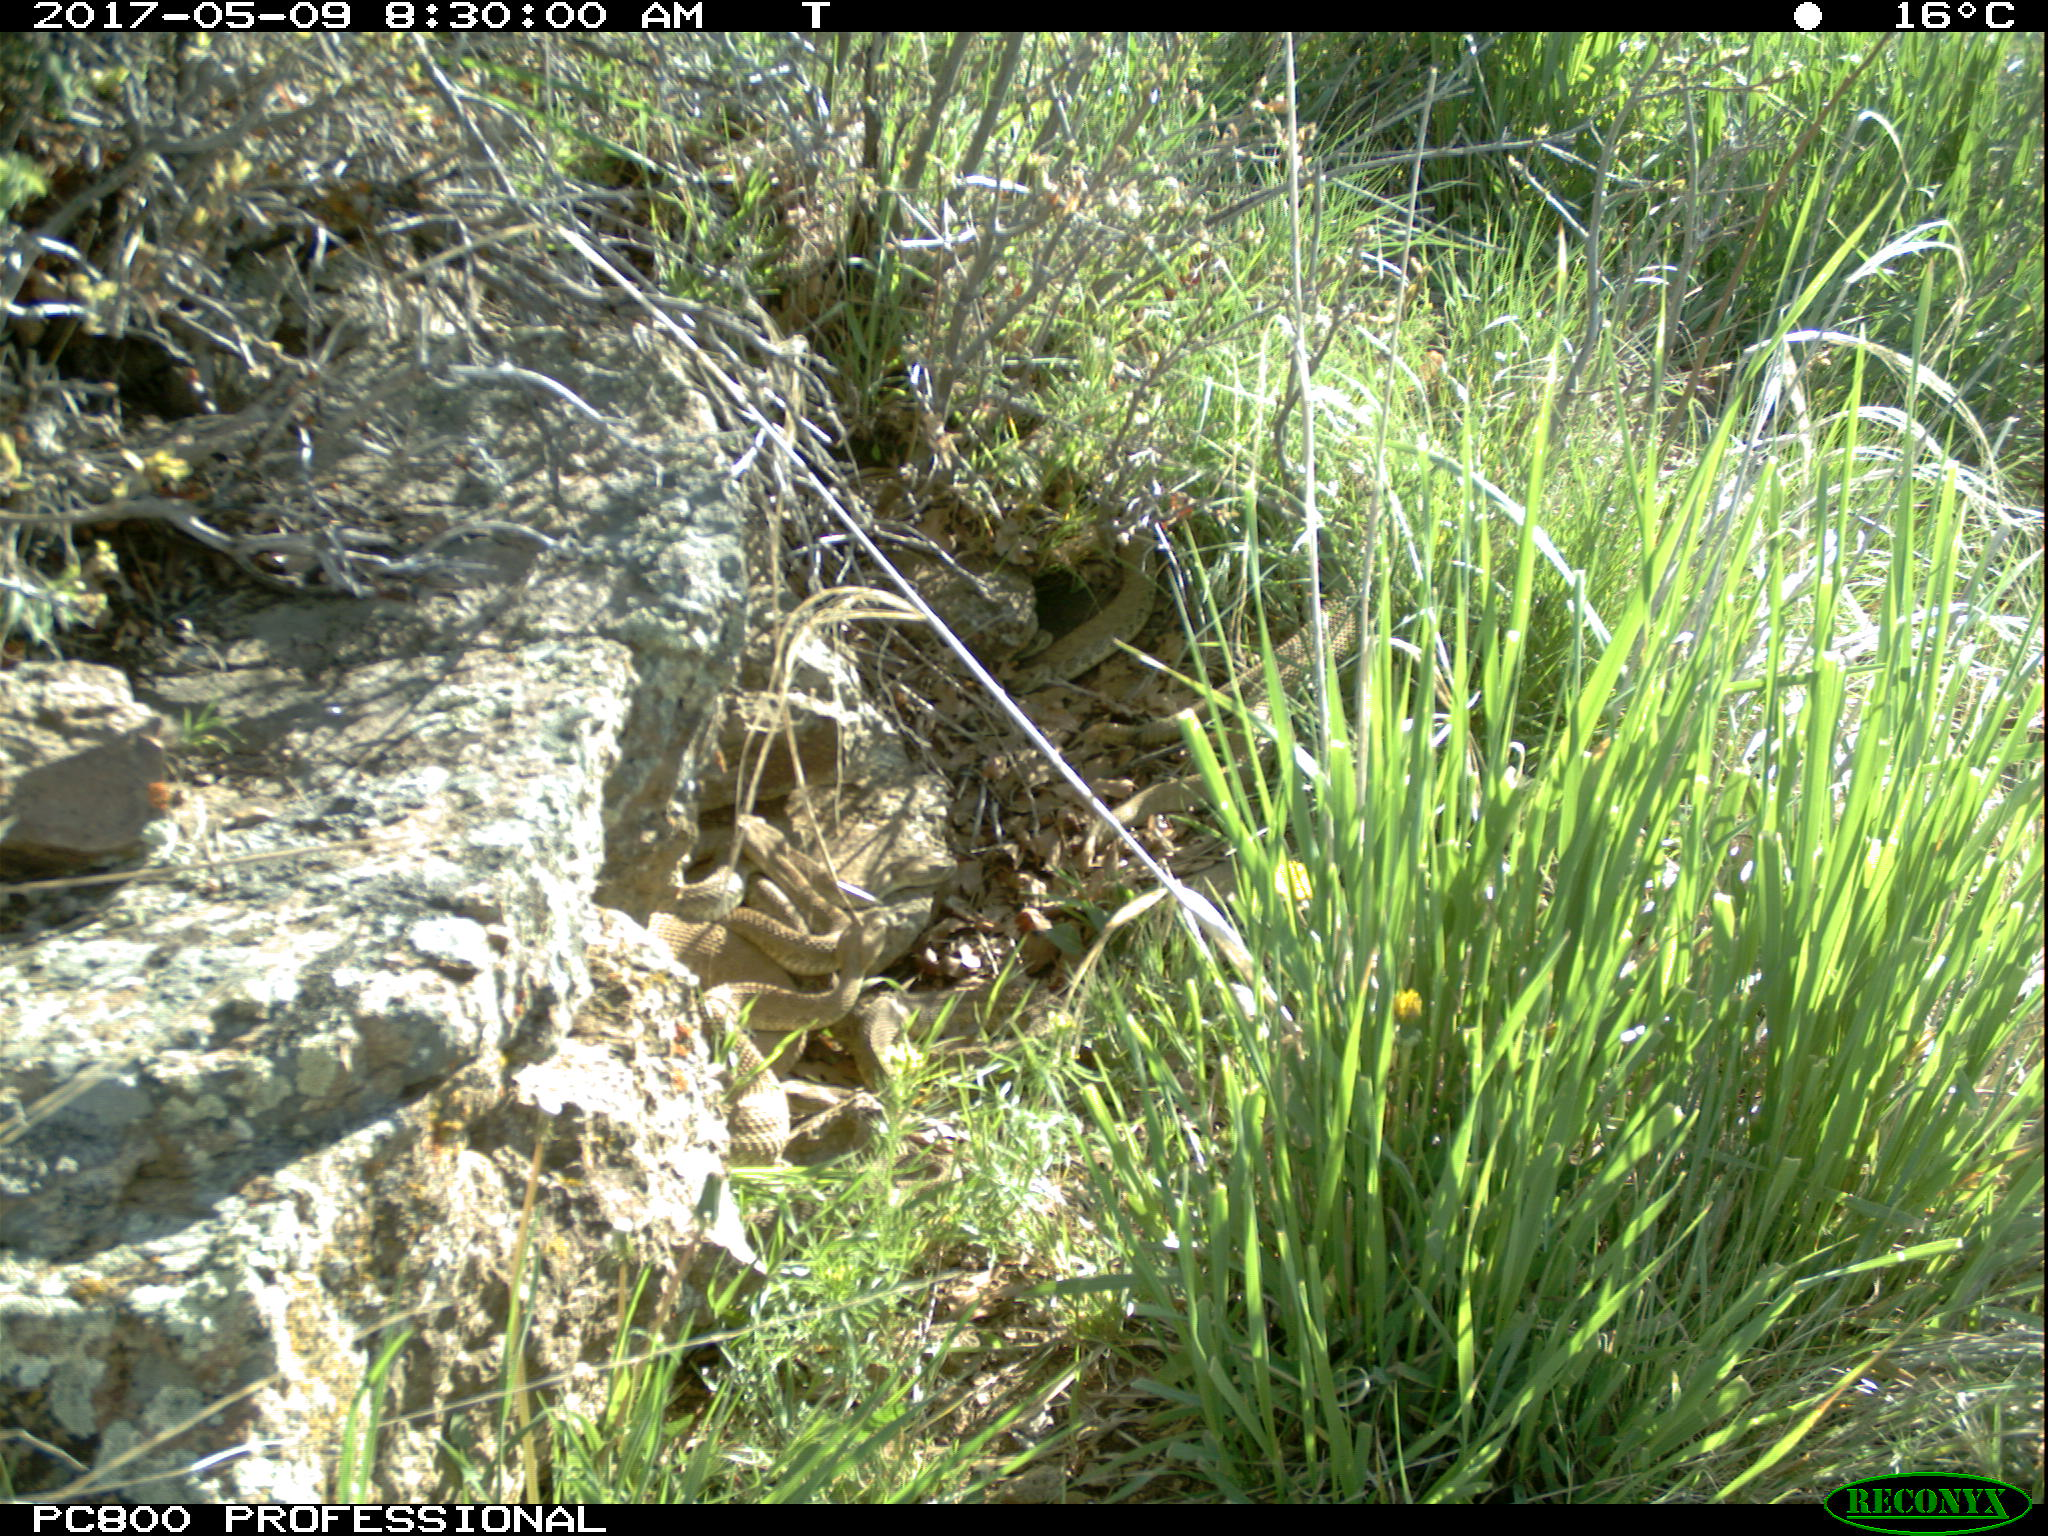snake: (656, 810, 877, 979), (705, 971, 884, 1170), (861, 975, 1080, 1070), (1030, 534, 1156, 687), (1238, 591, 1359, 679)
